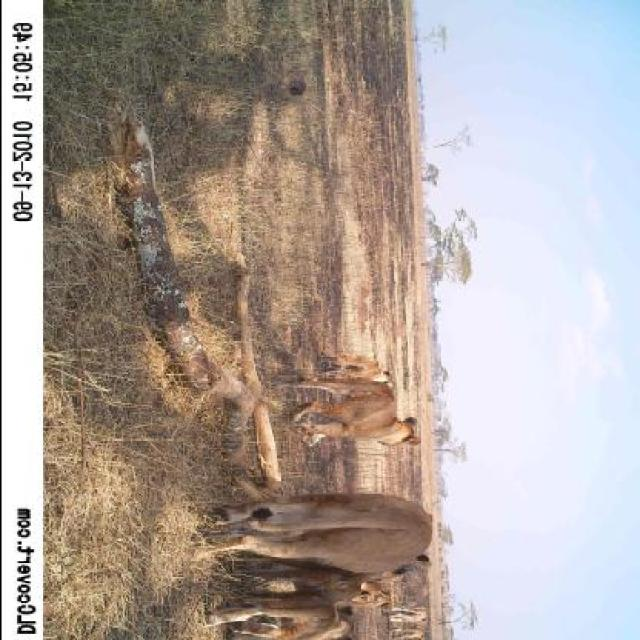Lion: (175, 480, 468, 594), (245, 354, 429, 468), (189, 577, 383, 637)
